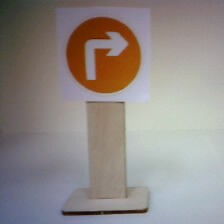right: (57, 8, 151, 105)
